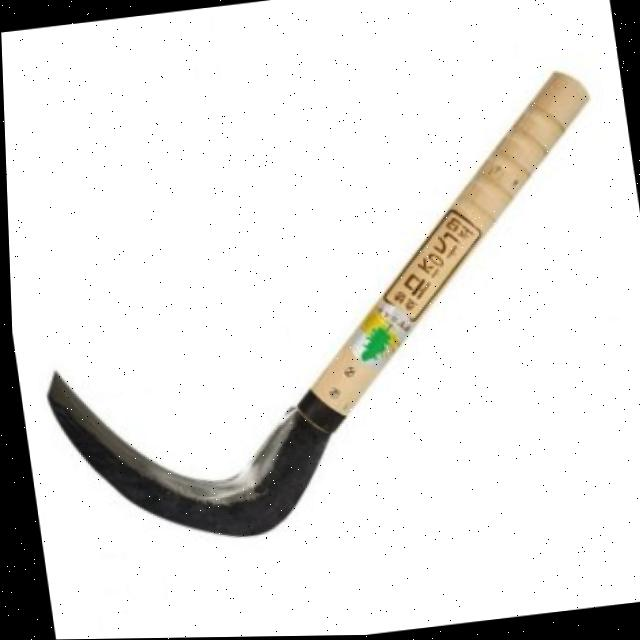sickle: (16, 54, 640, 579)
